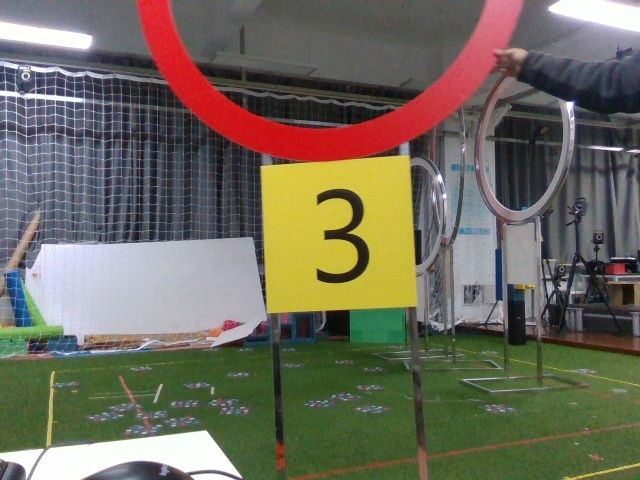target: (261, 162, 416, 307)
